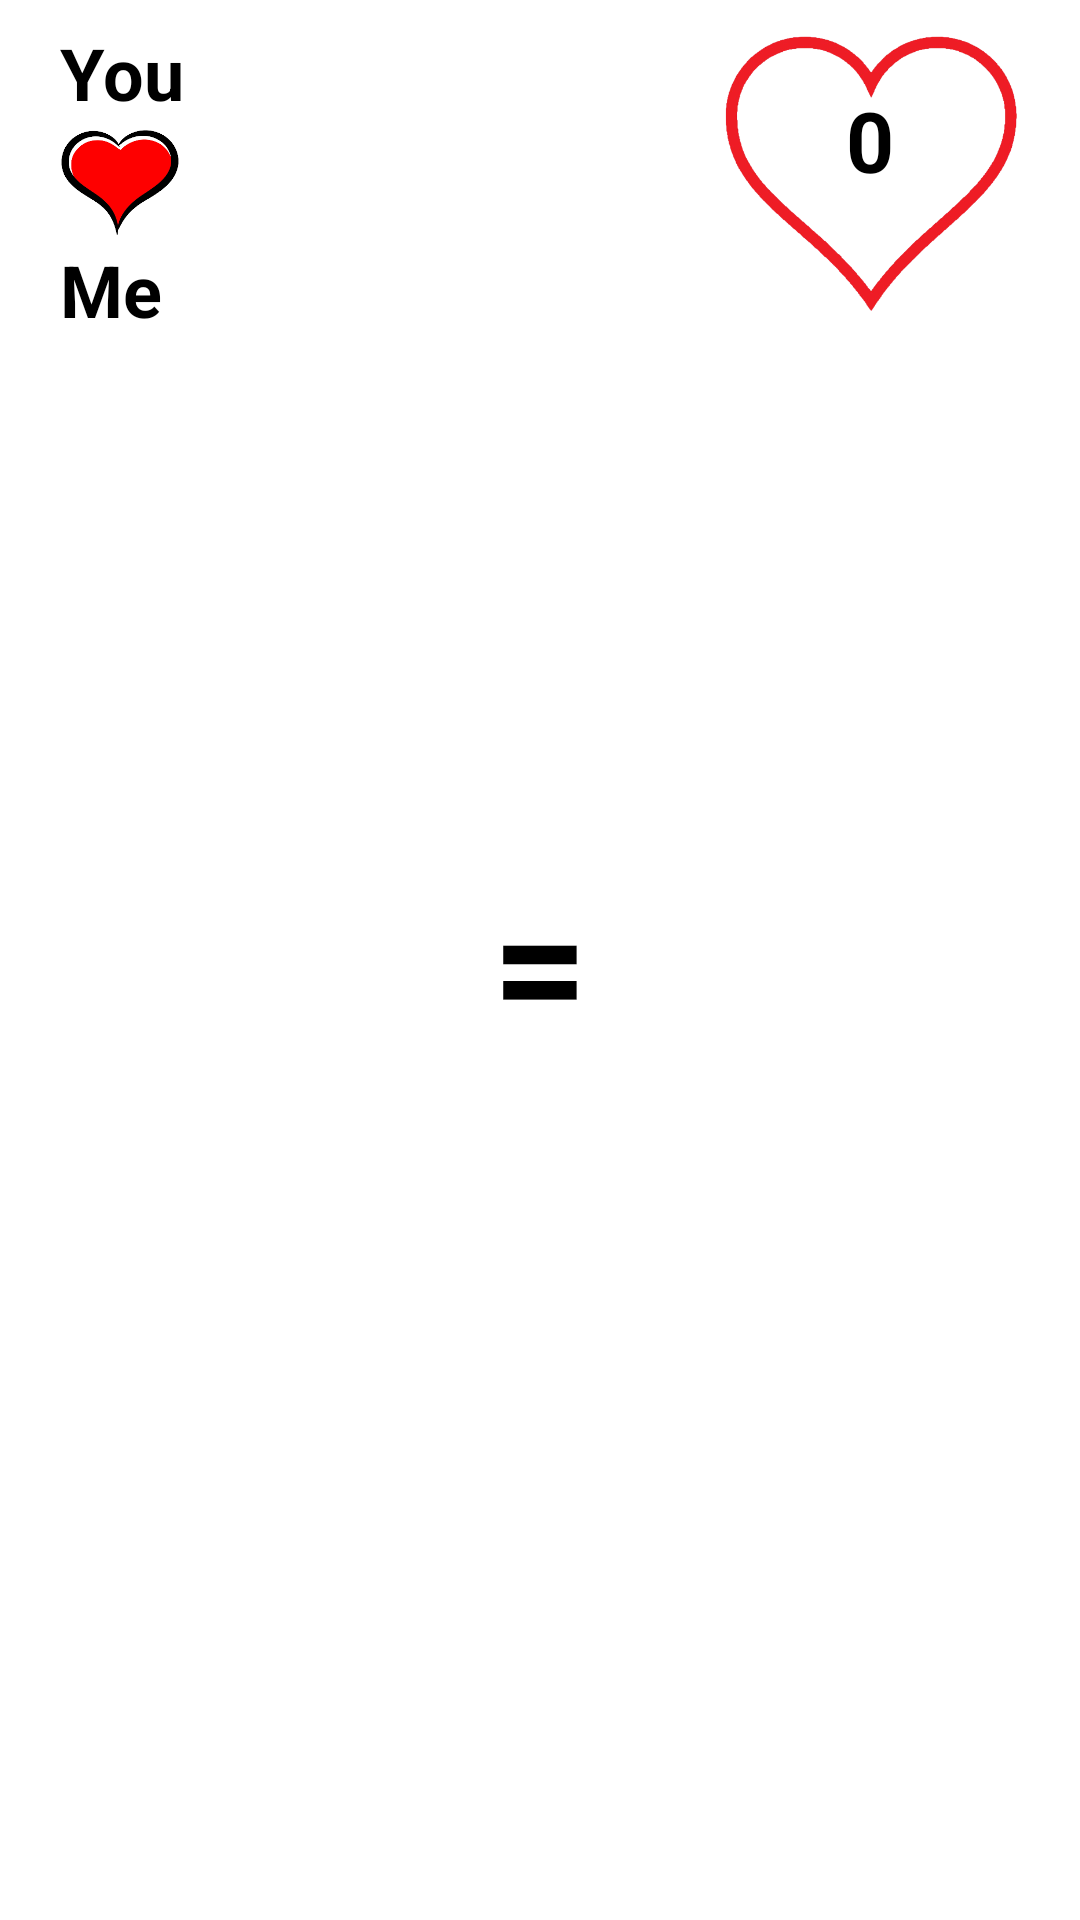

Screen size 1080px×1920px. Icon name, then its box in pixels as Rect(x1, y1, x2, y2):
border heart: Rect(726, 36, 1017, 311)
heart: Rect(61, 130, 179, 235)
